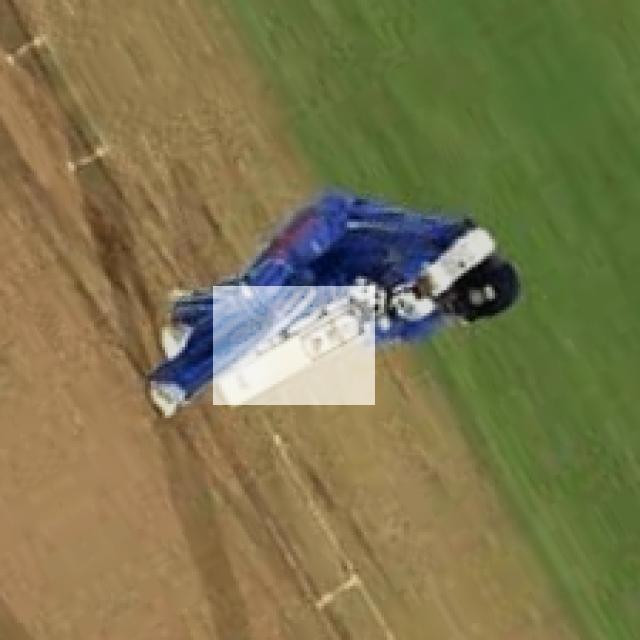bat: (214, 284, 377, 405)
toe: (212, 374, 236, 408)
